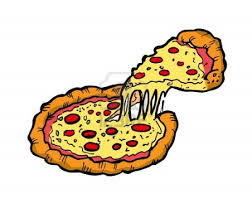pizza: (22, 28, 226, 176)
